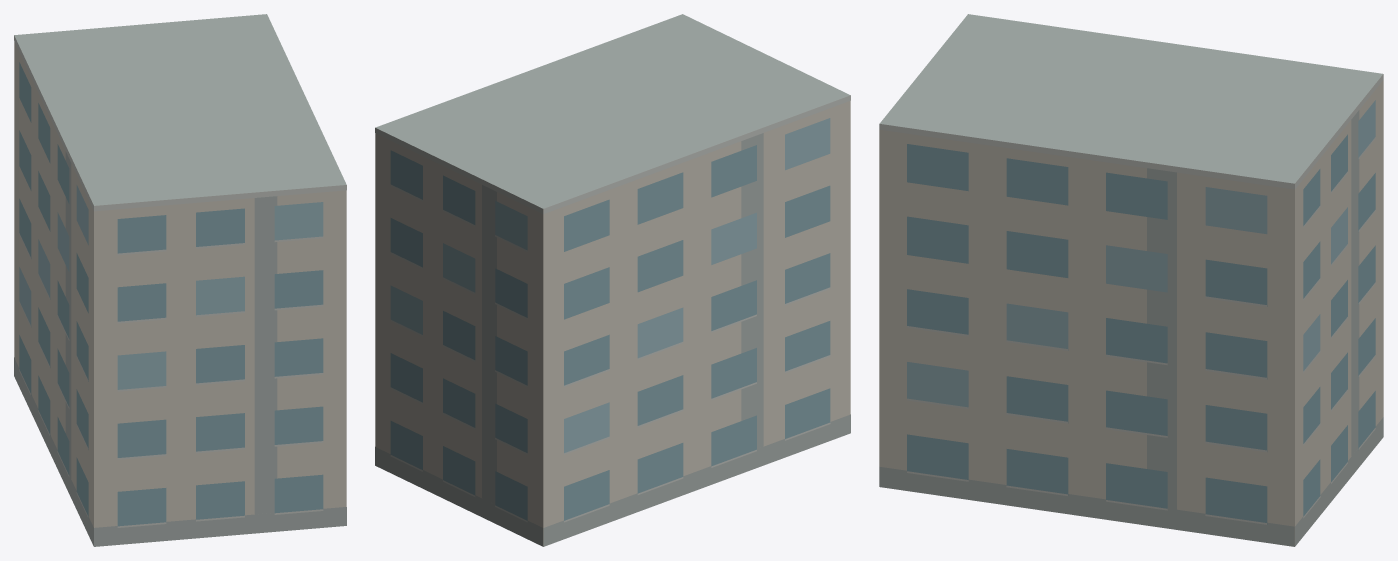
The model's file is residential-fdb50602-fed6-4fae-b19b-d69394b13796.glb.
3 renders of one model, left to right at view 1: azimuth 30°, elevation 25°; view 2: azimuth 150°, elevation 25°; view 3: azimuth 270°, elevation 25°, orthographic. The views are drawn at different scales.
Parts seen in each view (by area): view 1: residential-fdb50602-fed6-4fae-b19b-d69394b13796.tmp; view 2: residential-fdb50602-fed6-4fae-b19b-d69394b13796.tmp; view 3: residential-fdb50602-fed6-4fae-b19b-d69394b13796.tmp.
Part boxes in pixels (<box>): residential-fdb50602-fed6-4fae-b19b-d69394b13796.tmp: <box>14,14,346,546</box>; residential-fdb50602-fed6-4fae-b19b-d69394b13796.tmp: <box>375,14,850,546</box>; residential-fdb50602-fed6-4fae-b19b-d69394b13796.tmp: <box>879,14,1383,546</box>.
Size of the model in its own units: 15.29 by 15.25 by 19.19.
